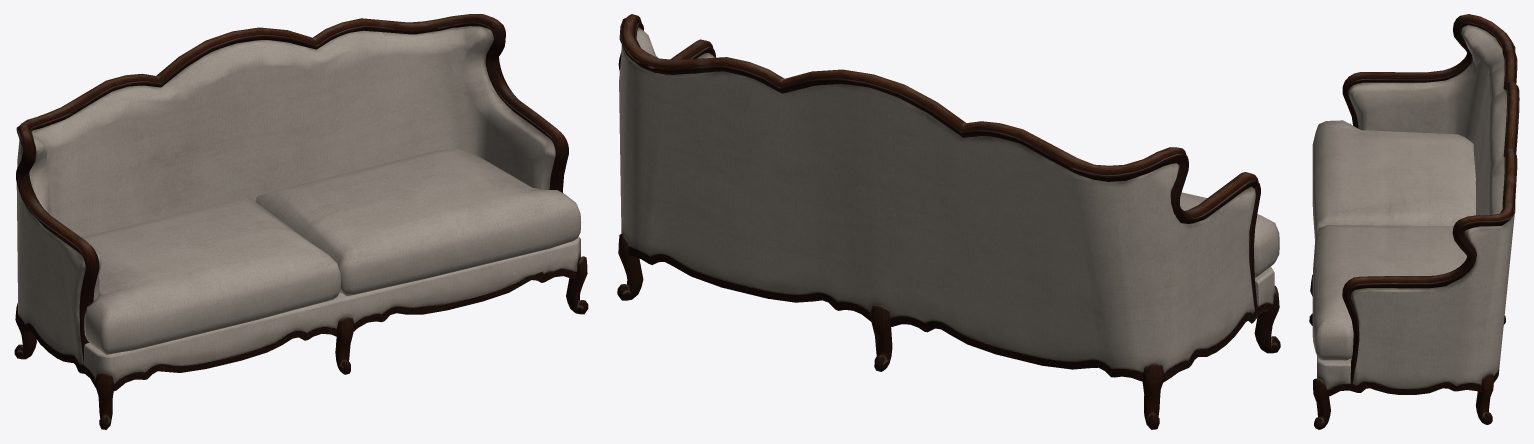
The model's file is Sofa_01.glb.
3 views of the same model, side by side, from view 1: azimuth 30°, elevation 25°; view 2: azimuth 150°, elevation 25°; view 3: azimuth 270°, elevation 25° (orthographic). The views are drawn at different scales.
Visible parts, largest first — view 1: Sofa_01; view 2: Sofa_01; view 3: Sofa_01.
Part boxes in pixels (<box>): Sofa_01: <box>14,14,588,429</box>; Sofa_01: <box>617,14,1280,429</box>; Sofa_01: <box>1309,14,1519,429</box>.
Bounding box in the file's own units: 1.57 × 0.7965 × 0.658.
1 material, 1 textured.
